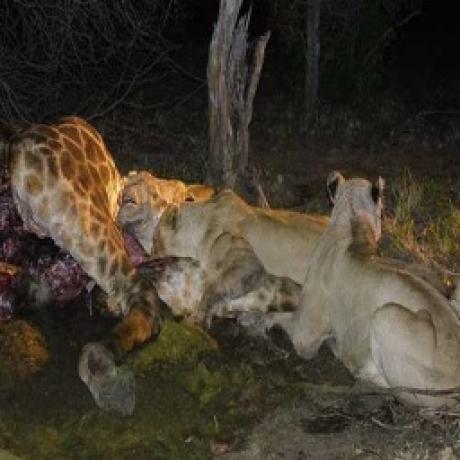Lion: (293, 172, 460, 410), (147, 192, 326, 298)
